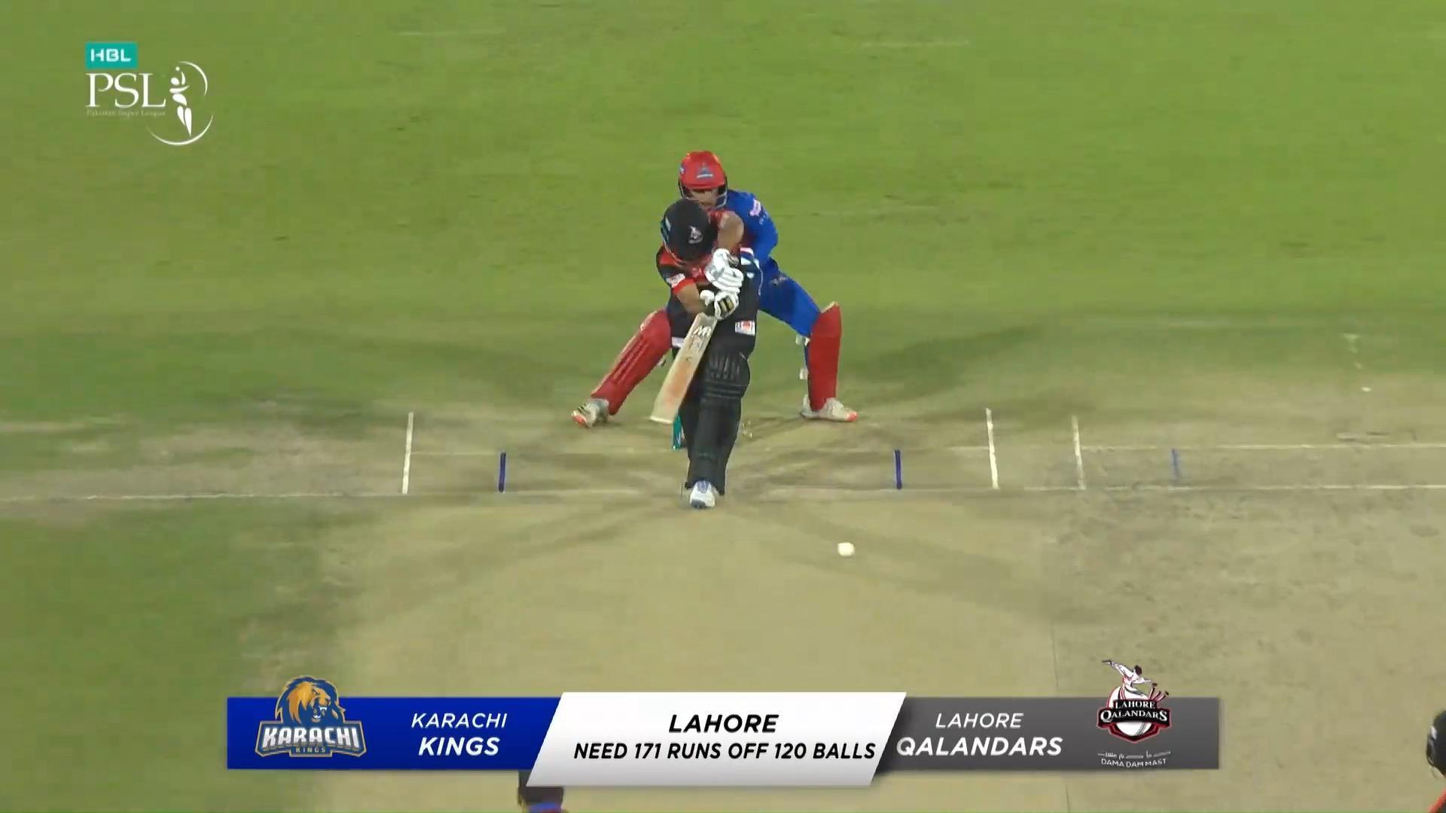BM 1: (647, 199, 751, 509)
BO: (511, 747, 575, 813)
